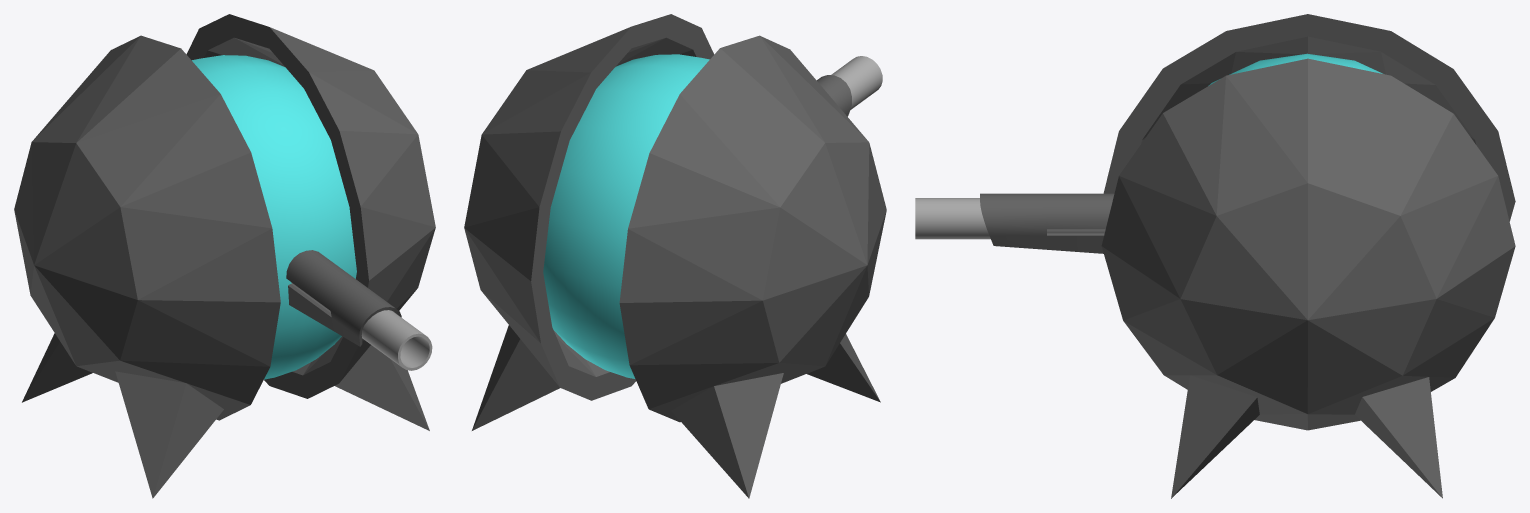
File: Heleur_STT.fbx
The picture shows the model from 3 angles, left to right: view 1: azimuth 30°, elevation 25°; view 2: azimuth 150°, elevation 25°; view 3: azimuth 270°, elevation 25°; orthographic projection. The views are drawn at different scales.
Parts seen in each view (by area): view 1: STT_Side1, STT_Side2, pSphere1, pPipe2, pPipe1; view 2: STT_Side1, STT_Side2, pSphere1, pPipe1, pPipe2; view 3: STT_Side2, STT_Side1, pPipe2, pPipe1, pSphere1.
Boxes of the visible parts, bbox=[...] form: STT_Side1: bbox=[14, 35, 280, 498]; STT_Side2: bbox=[186, 14, 435, 430]; pSphere1: bbox=[192, 55, 356, 379]; pPipe2: bbox=[286, 250, 401, 346]; pPipe1: bbox=[291, 282, 432, 370]; STT_Side1: bbox=[619, 35, 886, 498]; STT_Side2: bbox=[464, 14, 713, 430]; pSphere1: bbox=[543, 54, 709, 378]; pPipe1: bbox=[831, 56, 882, 109]; pPipe2: bbox=[817, 75, 851, 116]; STT_Side2: bbox=[1101, 58, 1515, 498]; STT_Side1: bbox=[1103, 14, 1515, 221]; pPipe2: bbox=[980, 193, 1114, 253]; pPipe1: bbox=[915, 198, 1105, 239]; pSphere1: bbox=[1208, 53, 1382, 85].
Size of the model in its own units: 12.09 by 11.45 by 15.86.
